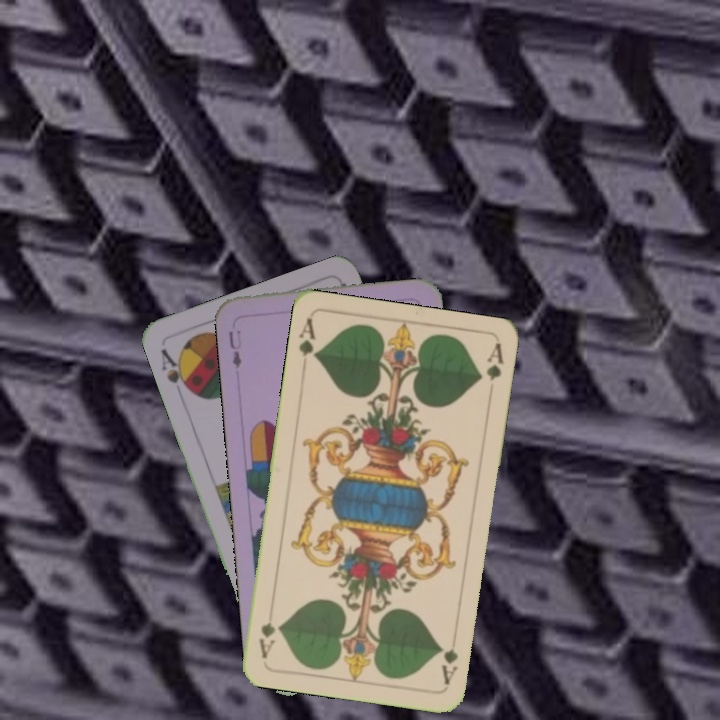EU: (224, 326, 244, 371)
GA: (295, 314, 321, 374), (437, 643, 461, 688)
SA: (157, 344, 195, 396)
